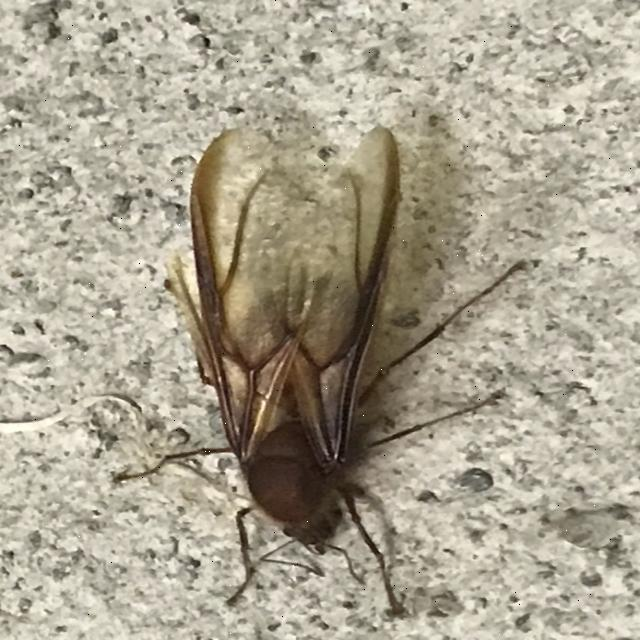Alive-Male-Alate: (110, 137, 538, 613)
